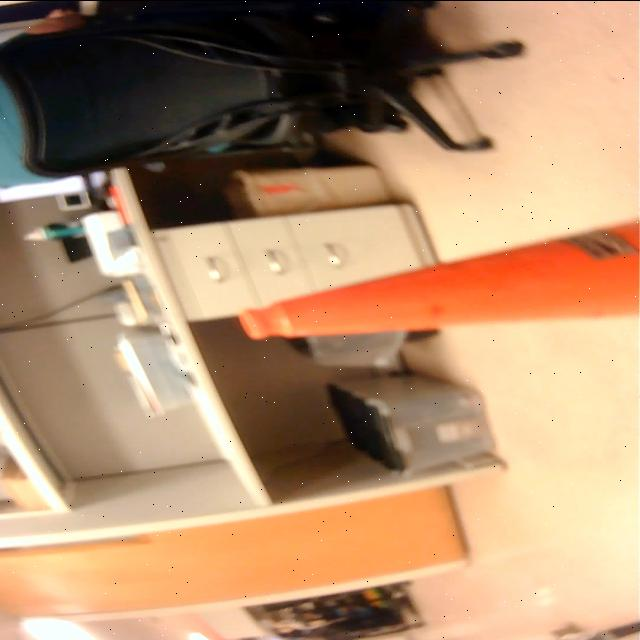traffic cone: (229, 211, 640, 345)
